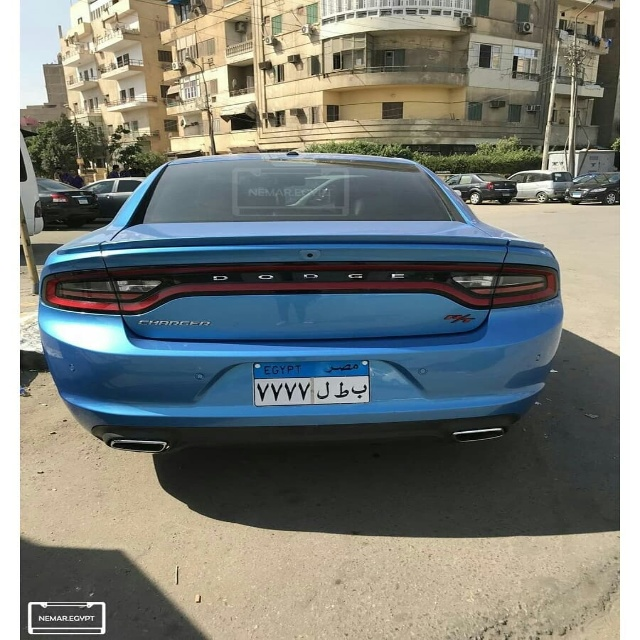License Plate: (250, 358, 372, 408)
